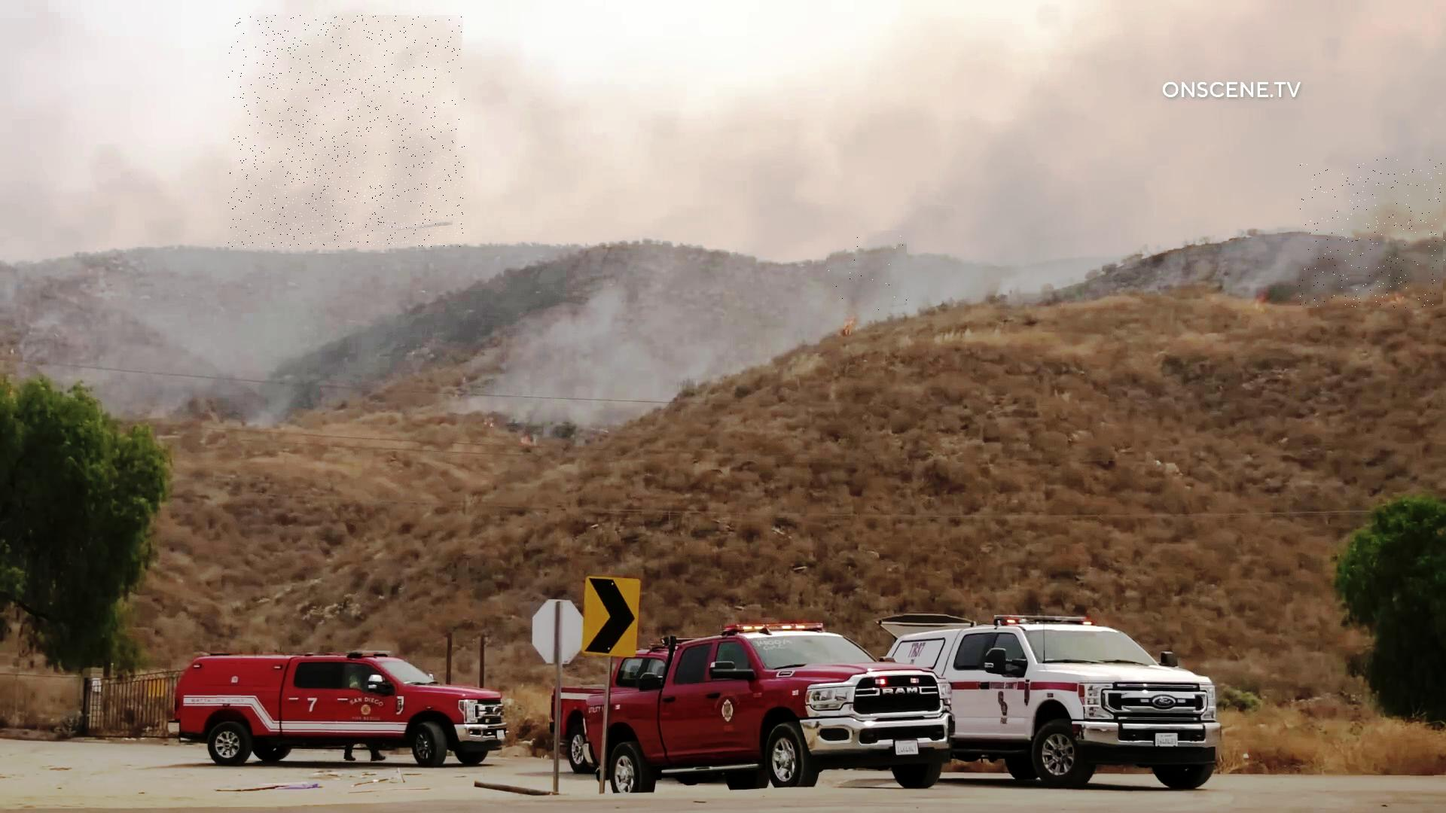smoke: (228, 15, 465, 248), (1300, 158, 1445, 308), (827, 231, 909, 315)
